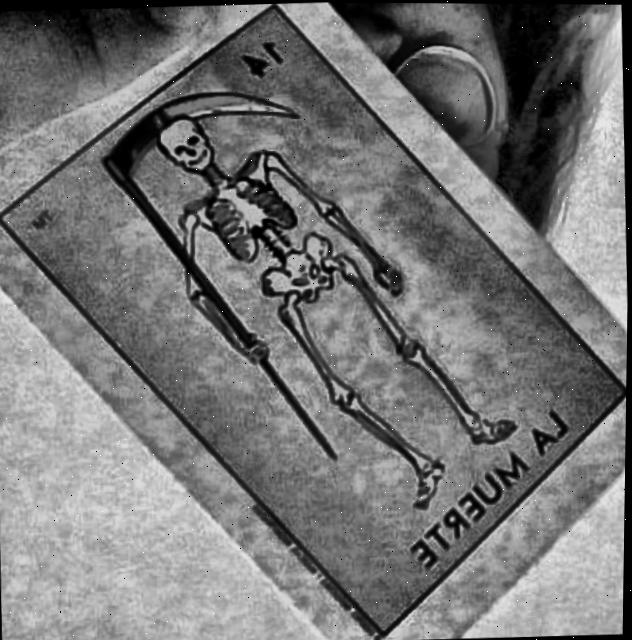La Muerte: (1, 10, 628, 632)
